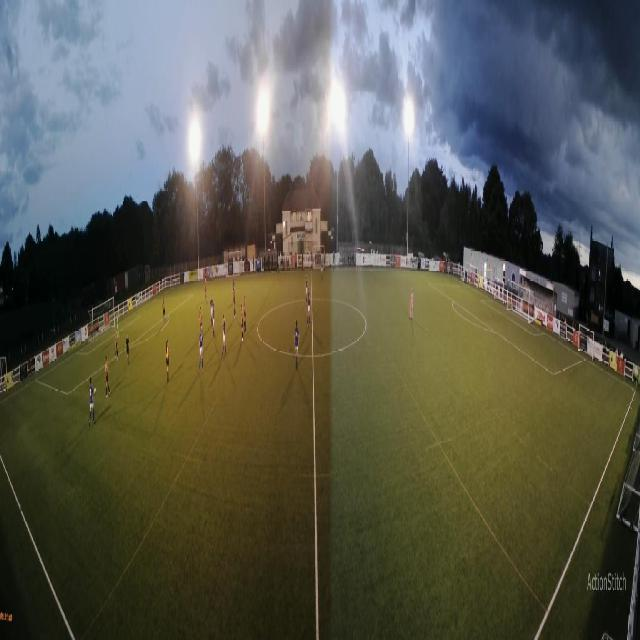ball: (94, 387, 97, 395)
player: (88, 377, 96, 427), (294, 320, 300, 370), (198, 328, 204, 373), (105, 356, 111, 398), (221, 314, 227, 356), (307, 287, 312, 328), (166, 339, 170, 384), (409, 287, 413, 321), (115, 329, 119, 361), (126, 334, 130, 366), (210, 294, 214, 326), (241, 302, 244, 342), (199, 306, 203, 335), (243, 294, 246, 332), (162, 298, 166, 325), (116, 313, 120, 339), (233, 288, 236, 320), (305, 276, 308, 305), (213, 303, 215, 339), (205, 278, 207, 302), (233, 279, 235, 303), (321, 258, 323, 279)
